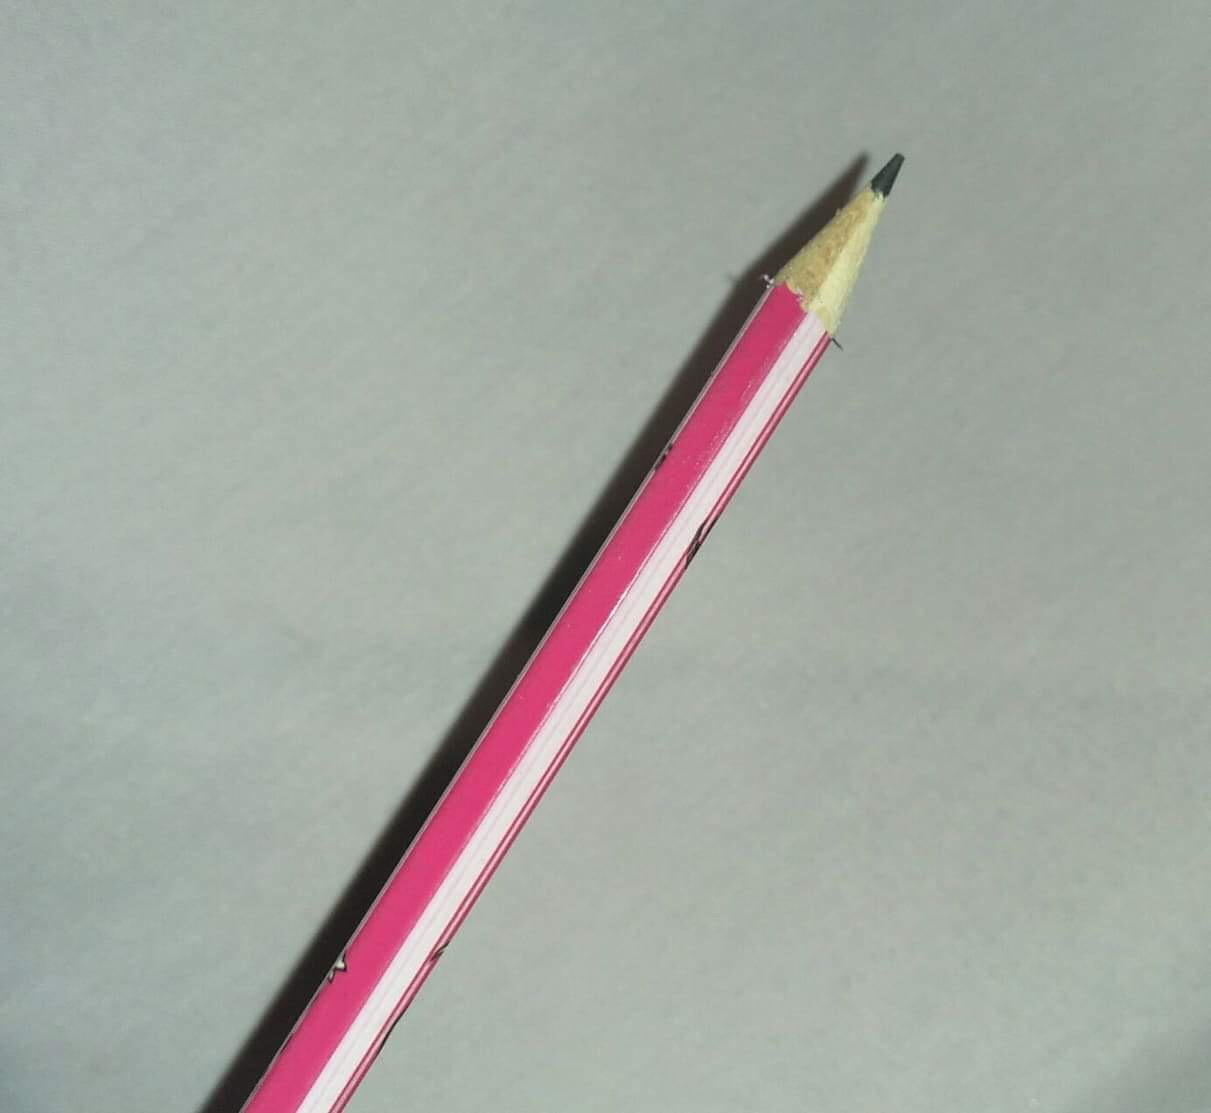pen_tip: (712, 99, 963, 376)
